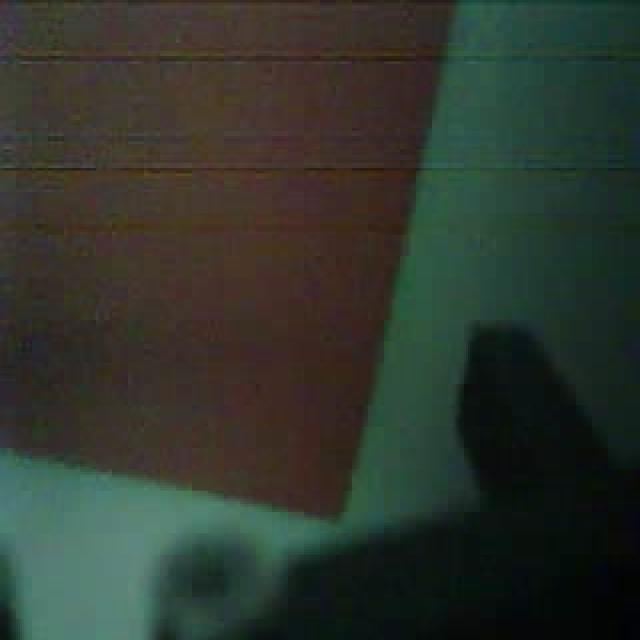red_box: (1, 6, 460, 515)
